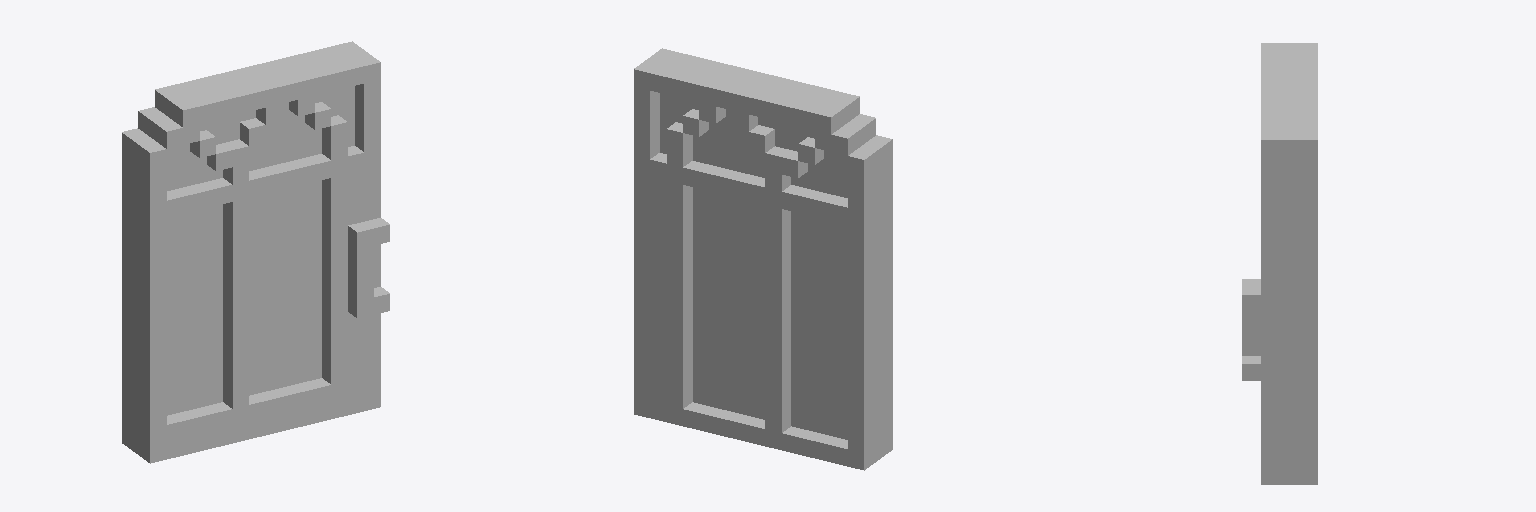
File: door.vox.obj
3 renders of one model, left to right at view 1: azimuth 30°, elevation 25°; view 2: azimuth 150°, elevation 25°; view 3: azimuth 270°, elevation 25°, orthographic.
Parts seen in each view (by area): view 1: object 1; view 2: object 1; view 3: object 1.
Part boxes in pixels (x1,y1,x2,y2): object 1: (122, 41, 389, 463); object 1: (634, 48, 892, 470); object 1: (1242, 43, 1317, 484).
Bounding box in the file's own units: 1.4 × 2 × 0.4.